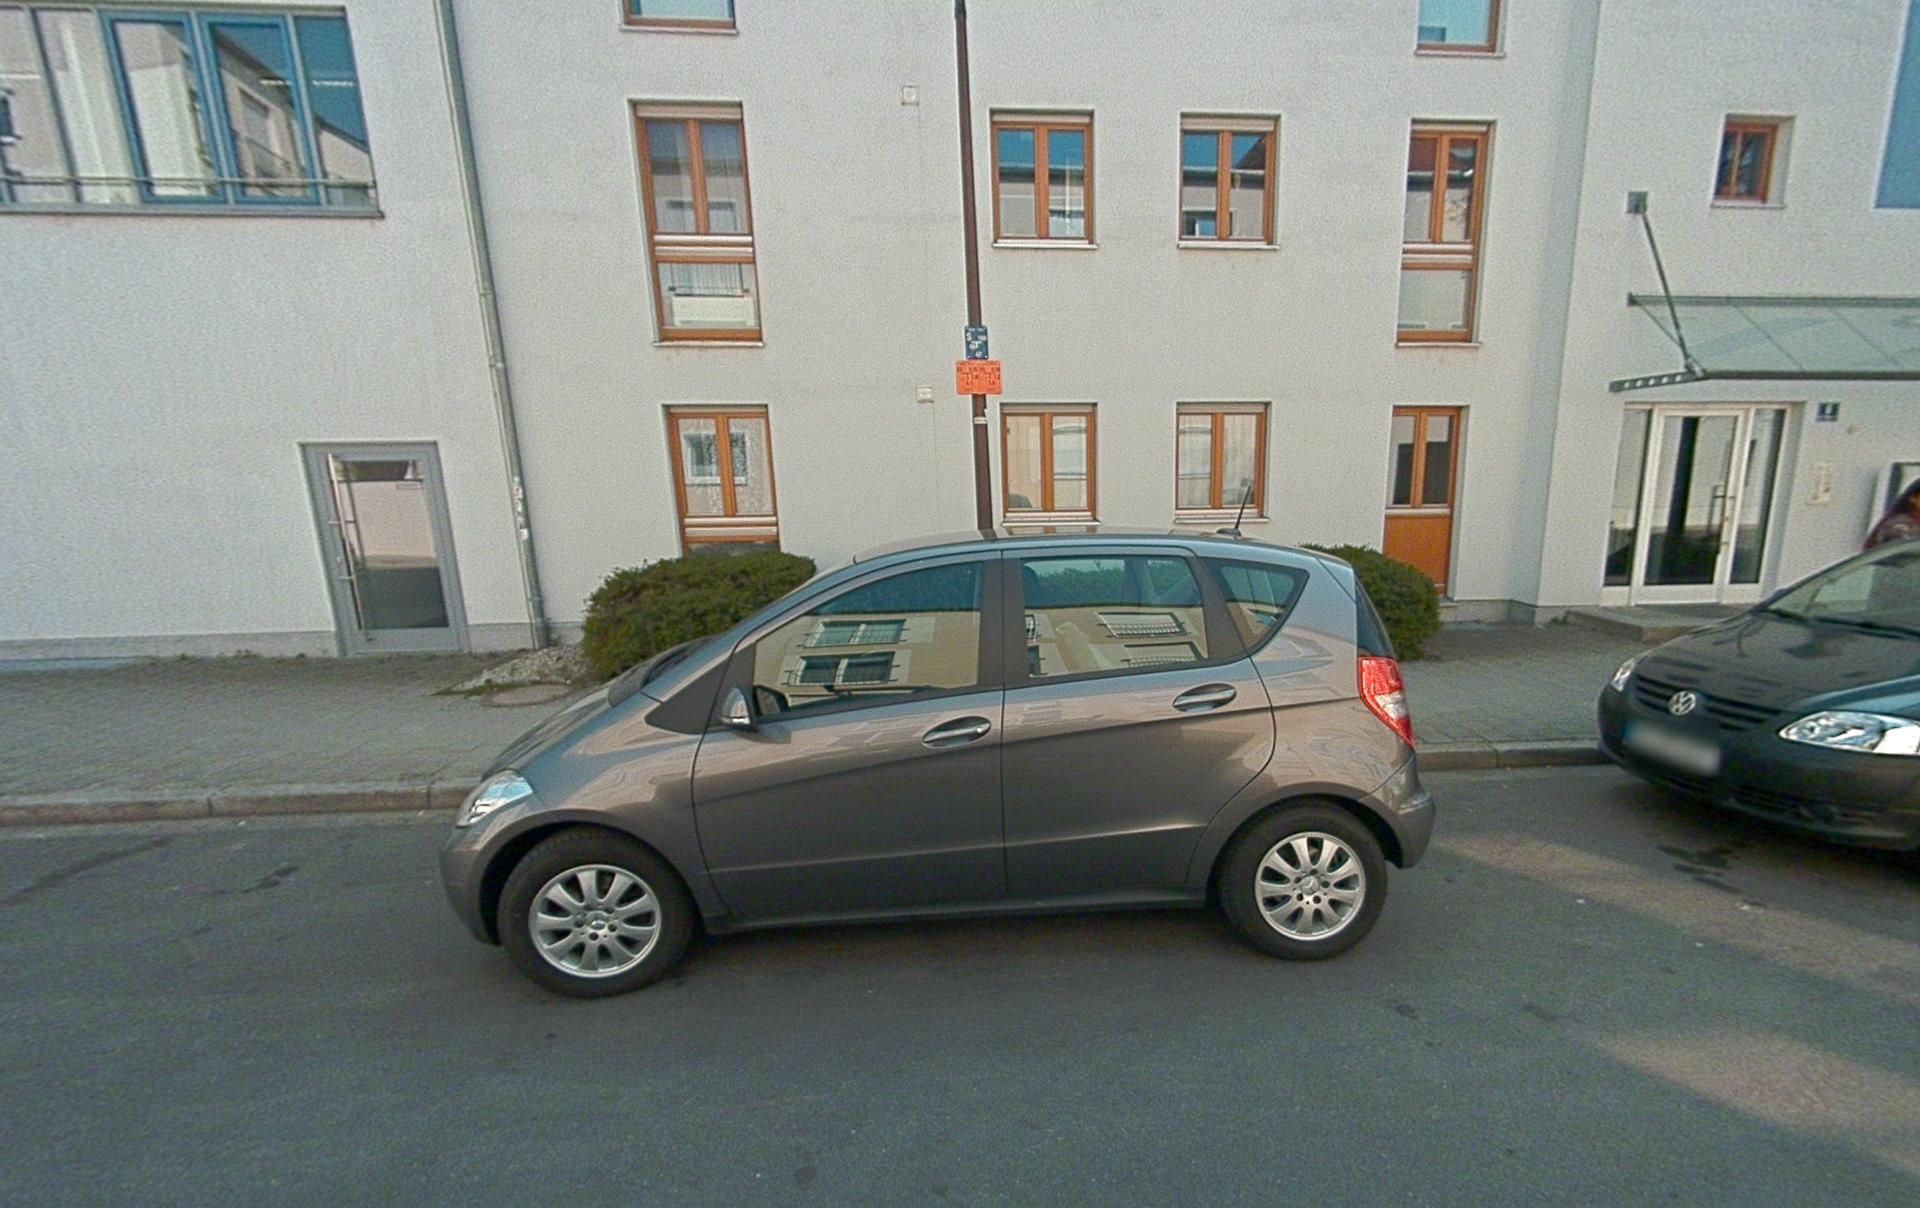car: (438, 526, 1436, 998), (1596, 533, 1920, 859)
traffic sign: (955, 359, 1002, 396), (963, 324, 989, 360)
